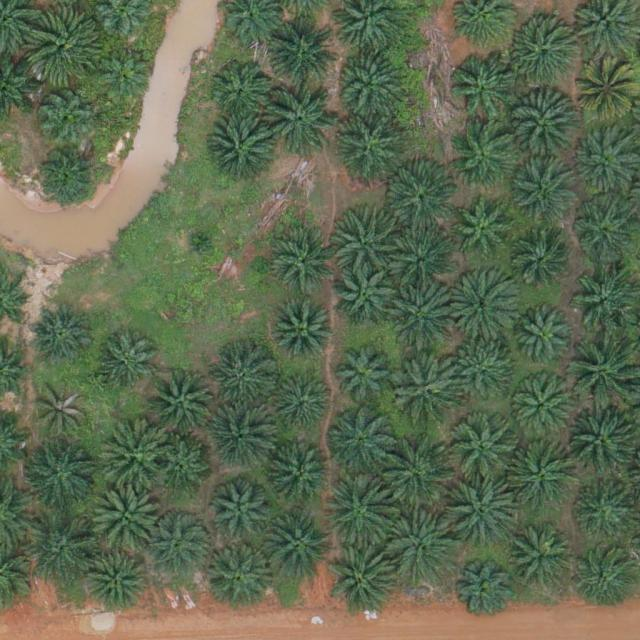Dead: (35, 385, 90, 440)
Healthy: (567, 405, 638, 476), (506, 441, 577, 512), (386, 516, 457, 587), (261, 511, 332, 582), (510, 92, 580, 163), (449, 56, 519, 127), (451, 122, 521, 193), (447, 270, 517, 341), (451, 477, 521, 548), (390, 280, 460, 351), (329, 547, 399, 618), (322, 478, 392, 549), (326, 406, 396, 477), (338, 47, 408, 118), (333, 111, 403, 182), (263, 84, 333, 155), (205, 117, 276, 187), (206, 403, 277, 473), (207, 541, 277, 612), (91, 481, 161, 552), (29, 515, 99, 586), (268, 15, 338, 86), (29, 10, 99, 81), (567, 339, 637, 409), (507, 527, 577, 597), (450, 417, 520, 487), (389, 169, 459, 239), (393, 354, 463, 424), (382, 437, 452, 507), (333, 204, 403, 274), (147, 368, 217, 438), (99, 420, 169, 490), (27, 440, 97, 510), (503, 19, 573, 89), (571, 263, 640, 333), (572, 199, 635, 262), (510, 378, 573, 441), (390, 229, 453, 292), (334, 265, 397, 328), (272, 234, 335, 297), (270, 447, 333, 510), (94, 331, 157, 394), (571, 129, 633, 192), (575, 483, 637, 546), (573, 551, 635, 614), (514, 165, 576, 228), (452, 199, 514, 262), (453, 344, 515, 407), (334, 346, 396, 409), (273, 302, 335, 365), (210, 61, 272, 124), (210, 484, 272, 547), (148, 512, 210, 575), (35, 145, 98, 207), (509, 236, 571, 298), (273, 375, 335, 437), (212, 350, 274, 412), (85, 551, 147, 613), (30, 303, 92, 365), (517, 311, 572, 367), (154, 439, 209, 494), (38, 87, 93, 142), (99, 46, 154, 101), (456, 566, 510, 621)
Small: (184, 226, 215, 258)
Yellow: (575, 63, 637, 125)
